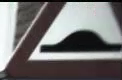Speed Breaker ahead: (17, 3, 118, 71)
